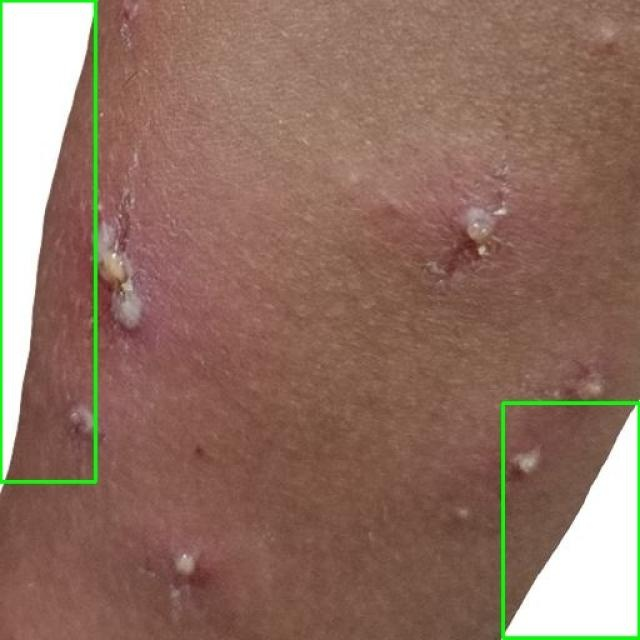Scabies: (0, 0, 95, 481), (502, 404, 639, 639)
